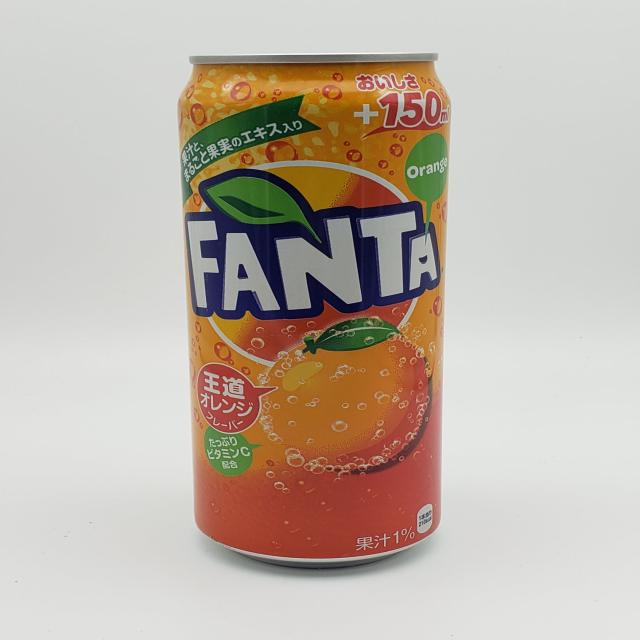fanta: (158, 42, 486, 555)
